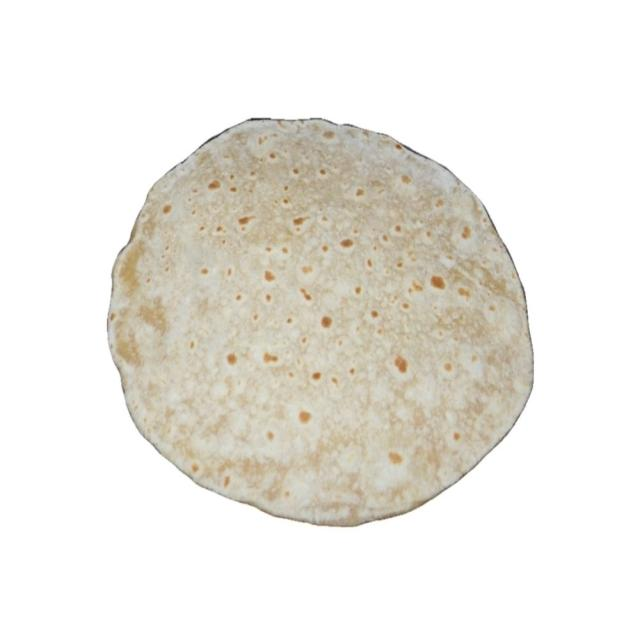ROTI: (107, 118, 530, 521)
